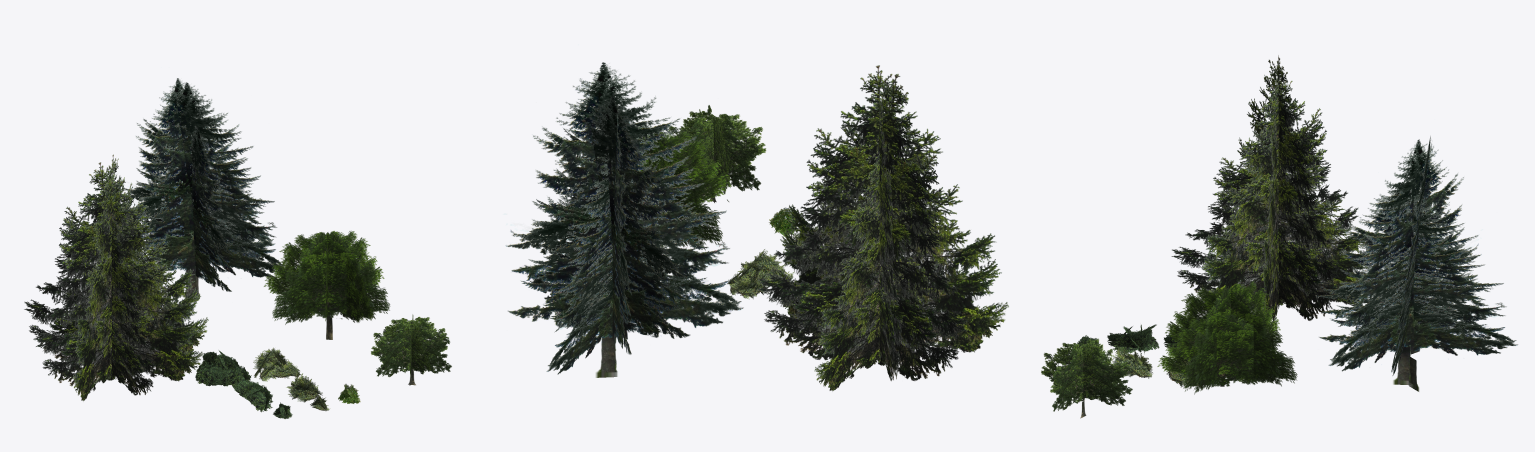
Rendered from flora03.glb.
The picture shows the model from 3 angles, left to right: view 1: azimuth 30°, elevation 25°; view 2: azimuth 150°, elevation 25°; view 3: azimuth 270°, elevation 25°; orthographic projection. The views are drawn at different scales.
Parts seen in each view (by area): view 1: pine1, Pine2, tree2, TreeSmall, MushBig, BushBig2, BushMed, BushMed2; view 2: pine1, Pine2, tree2, TreeSmall, BushBig2, BushFlowerSmall; view 3: pine1, Pine2, tree2, TreeSmall, BushMed, BushMed2.
Part boxes in pixels (left/top/right/bottom): pine1: left=24, top=154, right=208, bottom=401; Pine2: left=123, top=78, right=284, bottom=302; tree2: left=264, top=231, right=390, bottom=339; TreeSmall: left=371, top=314, right=451, bottom=385; MushBig: left=195, top=350, right=251, bottom=391; BushBig2: left=253, top=347, right=301, bottom=381; BushMed: left=232, top=379, right=272, bottom=412; BushMed2: left=286, top=373, right=322, bottom=402; pine1: left=757, top=65, right=1008, bottom=391; Pine2: left=505, top=62, right=743, bottom=377; tree2: left=581, top=124, right=731, bottom=250; TreeSmall: left=668, top=105, right=766, bottom=202; BushBig2: left=727, top=249, right=794, bottom=299; BushFlowerSmall: left=769, top=207, right=796, bottom=236; pine1: left=1171, top=55, right=1372, bottom=324; Pine2: left=1317, top=136, right=1517, bottom=391; tree2: left=1157, top=280, right=1297, bottom=394; TreeSmall: left=1041, top=338, right=1132, bottom=418; BushMed: left=1107, top=324, right=1159, bottom=354; BushMed2: left=1110, top=346, right=1152, bottom=378.
Bounding box in the file's own units: 63.05 × 49.75 × 68.04.
Materials: 8 (8 with a texture image).
